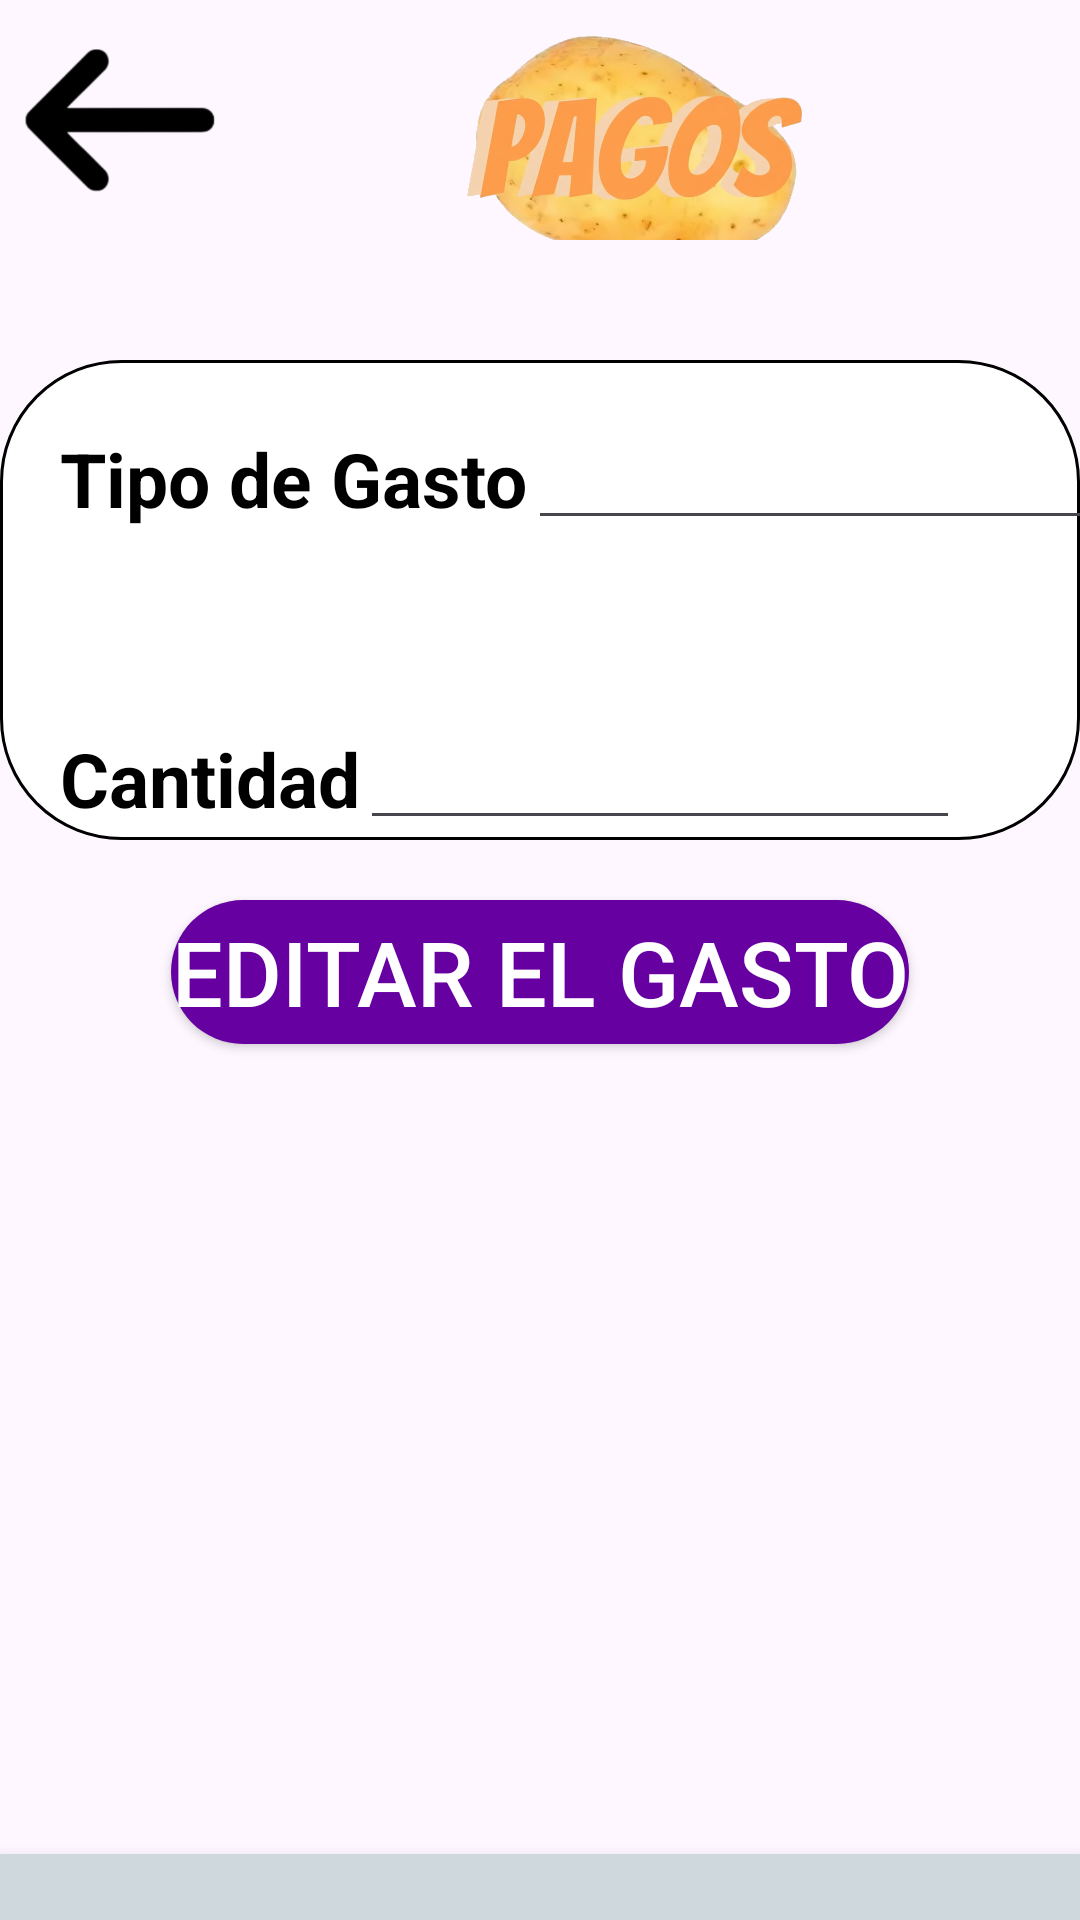

Named icons in this screenshot (1080 x 1920) and their centers, (x,y):
flecha: (120,120)
